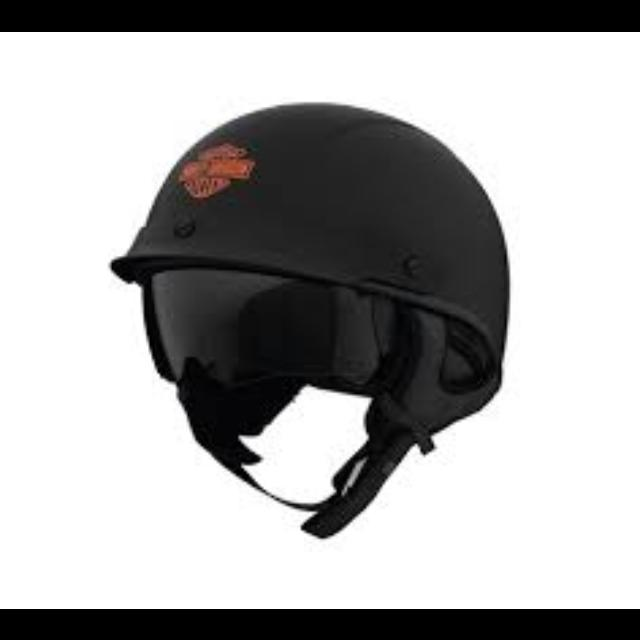motorcycle-helmets: (111, 104, 507, 535)
